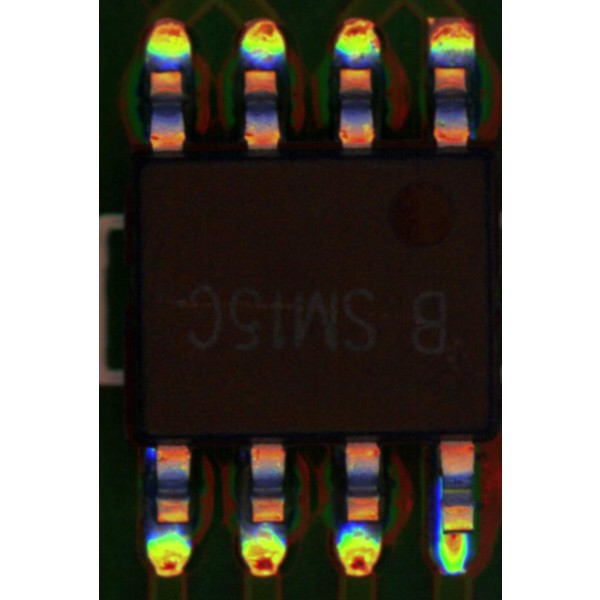Bad_podu: (447, 518, 465, 549)
